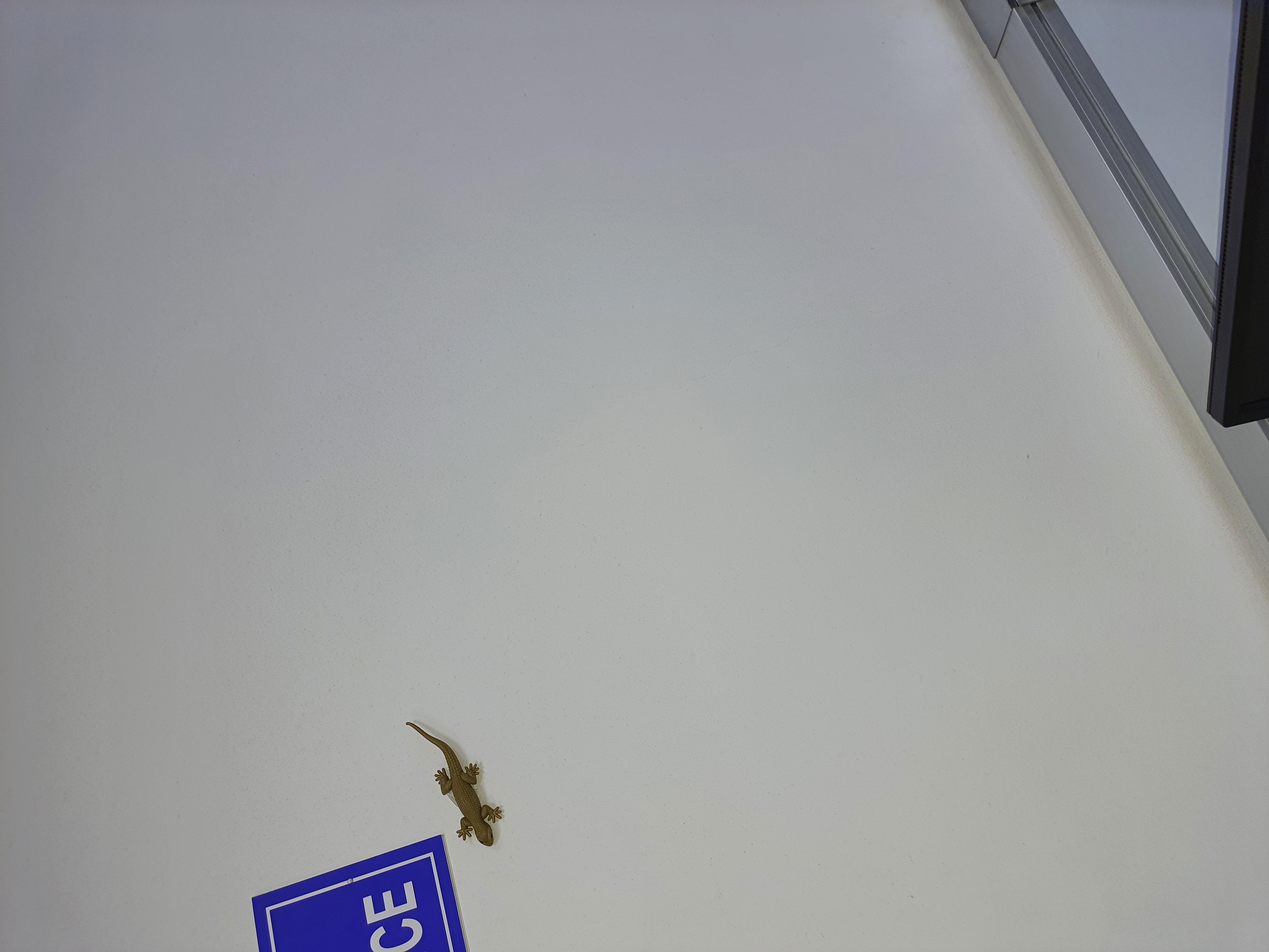lizard: (129, 301, 322, 402)
